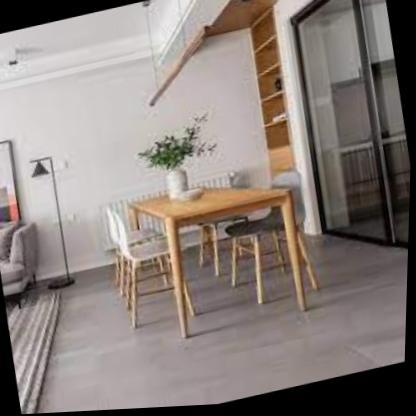Table: (116, 156, 332, 366)
